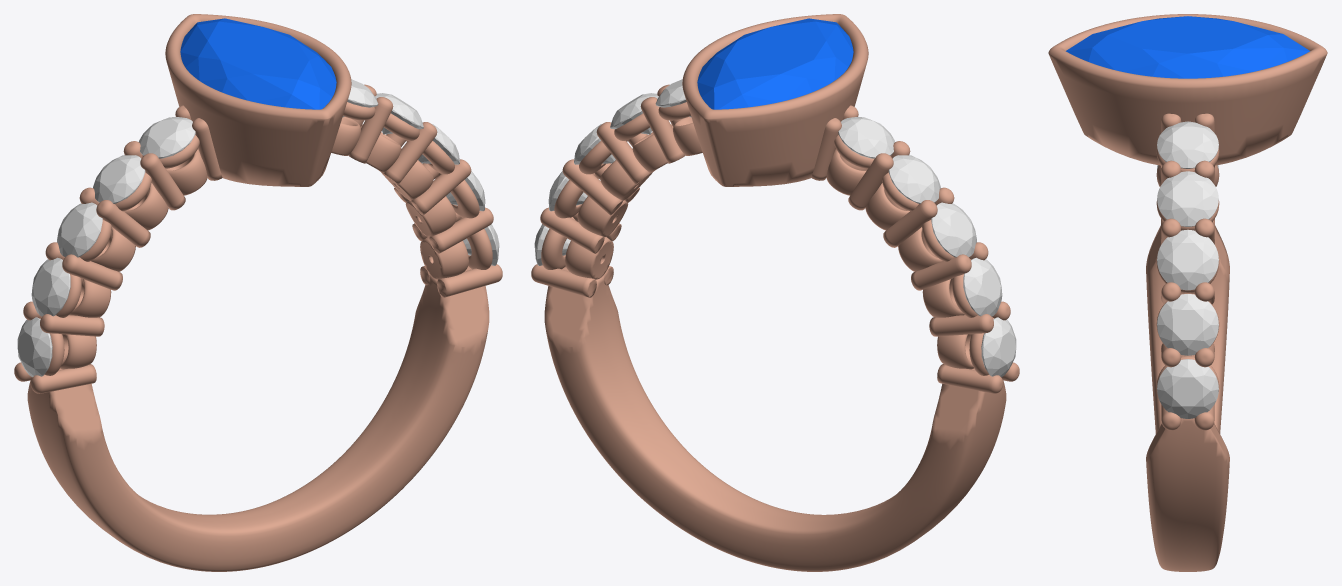
File: bluesapphire-marquise-rosegold-bezelset-straighttaperedband-11stone.glb
3 renders of one model, left to right at view 1: azimuth 30°, elevation 25°; view 2: azimuth 150°, elevation 25°; view 3: azimuth 270°, elevation 25°, orthographic.
Parts seen in each view (by area): view 1: metal.002, stone.002, side.022, side.023, side.021, side.024, side.020, side.028; view 2: metal.002, stone.002, side.022, side.023, side.021, side.024, side.020, side.028; view 3: metal.002, stone.002, side.026, side.027, side.025, side.028, side.029.
Boxes of the visible parts, x1=… form: metal.002: x1=14, y1=14, x2=502, y2=571; stone.002: x1=180, y1=18, x2=336, y2=109; side.022: x1=57, y1=202, x2=102, y2=257; side.023: x1=93, y1=155, x2=145, y2=203; side.021: x1=31, y1=257, x2=70, y2=316; side.024: x1=139, y1=117, x2=195, y2=158; side.020: x1=17, y1=317, x2=52, y2=377; side.028: x1=375, y1=93, x2=423, y2=134; metal.002: x1=531, y1=14, x2=1019, y2=571; stone.002: x1=697, y1=18, x2=853, y2=109; side.022: x1=931, y1=202, x2=976, y2=257; side.023: x1=888, y1=155, x2=940, y2=203; side.021: x1=963, y1=257, x2=1002, y2=316; side.024: x1=838, y1=117, x2=894, y2=158; side.020: x1=981, y1=317, x2=1016, y2=377; side.028: x1=610, y1=93, x2=658, y2=134; metal.002: x1=1048, y1=14, x2=1327, y2=571; stone.002: x1=1066, y1=16, x2=1309, y2=78; side.026: x1=1157, y1=294, x2=1218, y2=355; side.027: x1=1157, y1=229, x2=1218, y2=290; side.025: x1=1157, y1=359, x2=1218, y2=418; side.028: x1=1157, y1=171, x2=1218, y2=226; side.029: x1=1157, y1=121, x2=1218, y2=168.
Size of the model in its own units: 22.1 by 22.94 by 11.31.
